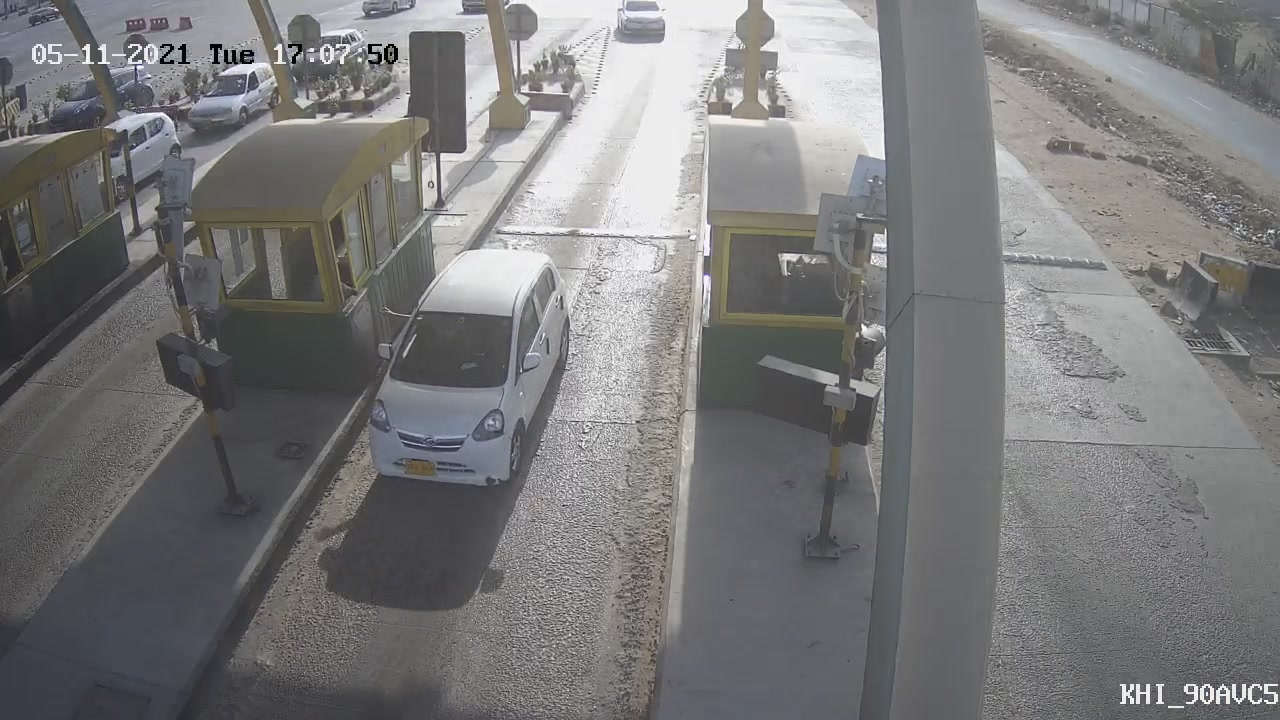F1: (337, 229, 596, 505)
